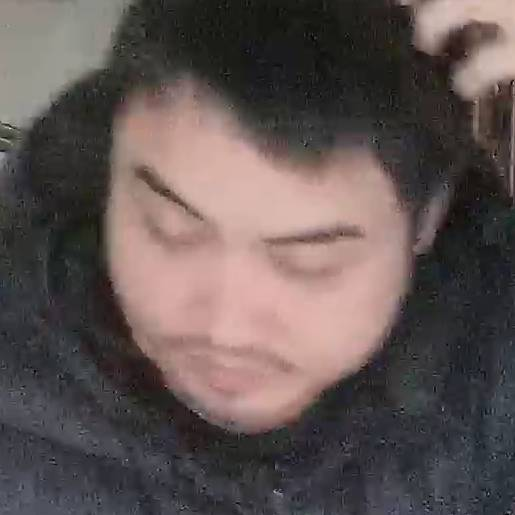mg: (73, 70, 453, 450)
